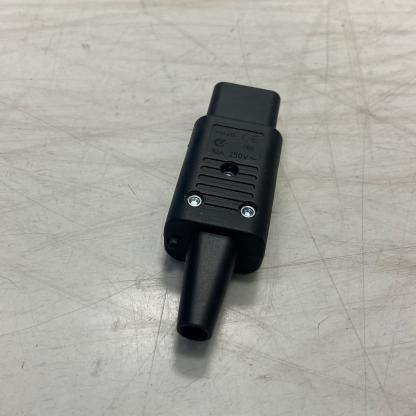SP0000006: (81, 1, 332, 384)
